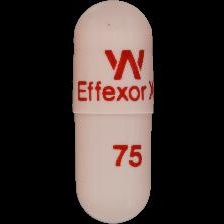50436-3779: (0, 0, 224, 224)
